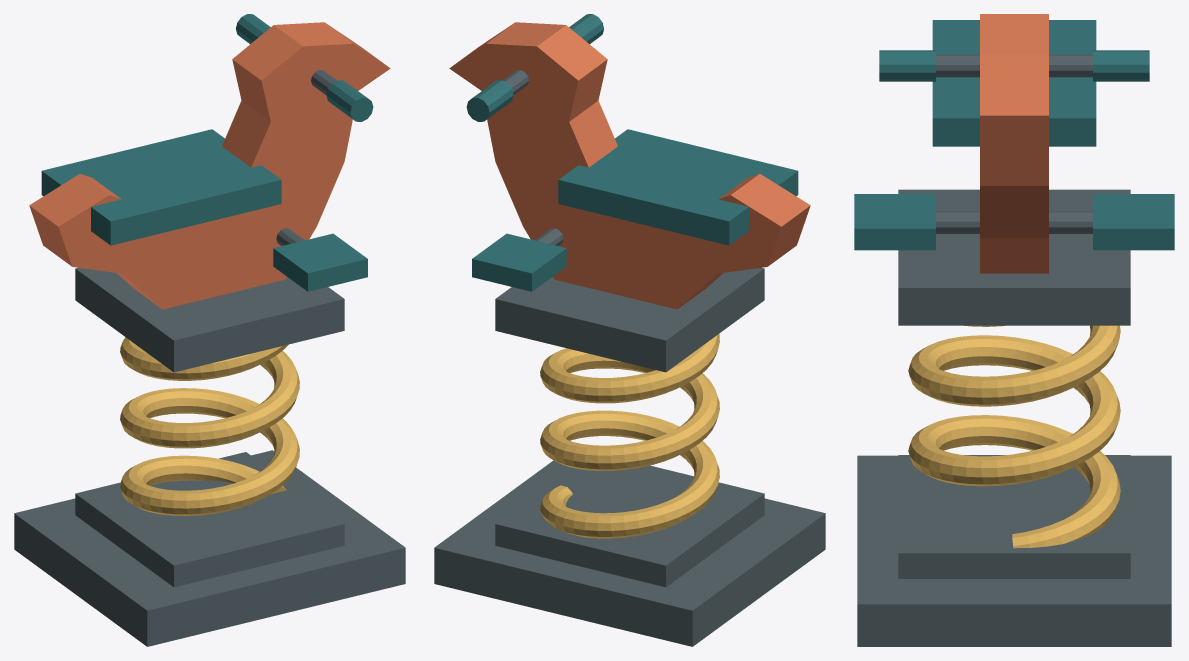
3 views of the same model, side by side, from view 1: azimuth 30°, elevation 25°; view 2: azimuth 150°, elevation 25°; view 3: azimuth 270°, elevation 25° (orthographic). The views are drawn at different scales.
Visible parts, largest first — view 1: Rider_OriginalAbstractBirdProfile, Base_BroadGroundedPlinth, Spring_ContinuousThreeTurnHelix, Mount_LowerFixingPlate, Mount_UpperFixingPlate, Saddle_ThickSeatBoard, Foot_Pad_Near, Handle_Grip_Near, Handle_Grip_Far; view 2: Rider_OriginalAbstractBirdProfile, Base_BroadGroundedPlinth, Spring_ContinuousThreeTurnHelix, Mount_LowerFixingPlate, Mount_UpperFixingPlate, Saddle_ThickSeatBoard, Foot_Pad_Far, Handle_Grip_Far, Handle_Grip_Near; view 3: Base_BroadGroundedPlinth, Spring_ContinuousThreeTurnHelix, Mount_LowerFixingPlate, Mount_UpperFixingPlate, Rider_OriginalAbstractBirdProfile, Saddle_ThickSeatBoard, Foot_Pad_Far, Foot_Pad_Near, Handle_TransverseBar, Foot_TransverseBar, Handle_Grip_Far, Handle_Grip_Near.
Boxes of the visible parts, x1,y1,x2,y2 form: Rider_OriginalAbstractBirdProfile: (29,22,390,309); Base_BroadGroundedPlinth: (14,450,405,646); Spring_ContinuousThreeTurnHelix: (120,337,299,515); Mount_LowerFixingPlate: (75,452,344,587); Mount_UpperFixingPlate: (75,267,344,372); Saddle_ThickSeatBoard: (41,129,281,245); Foot_Pad_Near: (273,233,367,291); Handle_Grip_Near: (326,80,373,121); Handle_Grip_Far: (236,14,270,44); Rider_OriginalAbstractBirdProfile: (449,22,810,309); Base_BroadGroundedPlinth: (434,460,825,646); Spring_ContinuousThreeTurnHelix: (540,334,719,538); Mount_LowerFixingPlate: (495,465,764,587); Mount_UpperFixingPlate: (495,267,764,372); Saddle_ThickSeatBoard: (558,129,798,245); Foot_Pad_Far: (472,233,566,291); Handle_Grip_Far: (466,80,513,121); Handle_Grip_Near: (569,14,603,44); Base_BroadGroundedPlinth: (857,455,1171,646); Spring_ContinuousThreeTurnHelix: (908,325,1120,548); Mount_LowerFixingPlate: (898,455,1130,578); Mount_UpperFixingPlate: (898,189,1130,325); Rider_OriginalAbstractBirdProfile: (980,14,1048,273); Saddle_ThickSeatBoard: (932,20,1096,146); Foot_Pad_Far: (1093,194,1174,250); Foot_Pad_Near: (854,194,935,250); Handle_TransverseBar: (936,54,1092,77); Foot_TransverseBar: (936,211,1092,233); Handle_Grip_Far: (1093,50,1149,81); Handle_Grip_Near: (879,50,935,81).
Bounding box in the file's own units: 0.72 × 1.06 × 0.51.
